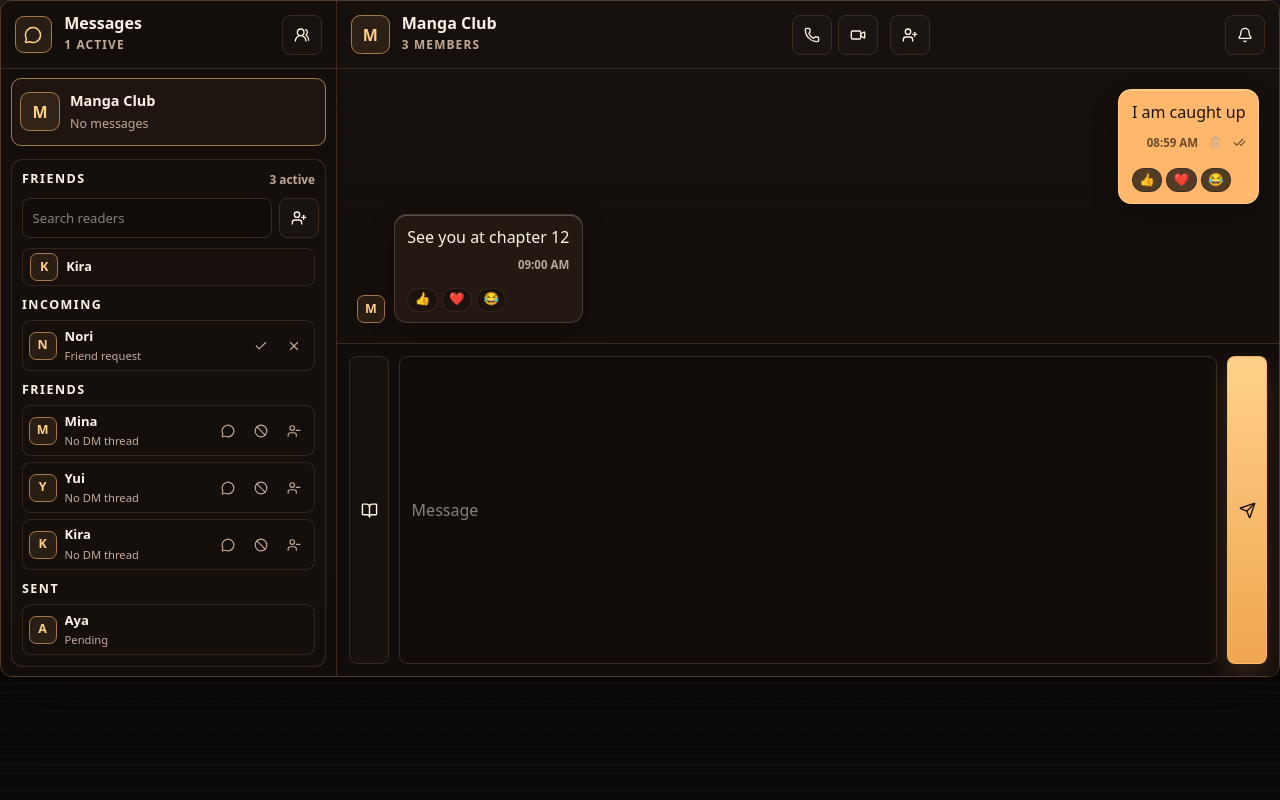
SocialChatPage › invites an accepted friend from a group thread
expect the heading "Manga Club" is shown: met, box [402,15,497,33]
Click the button named "Invite member" at point(910, 35), box [890,15,930,55]
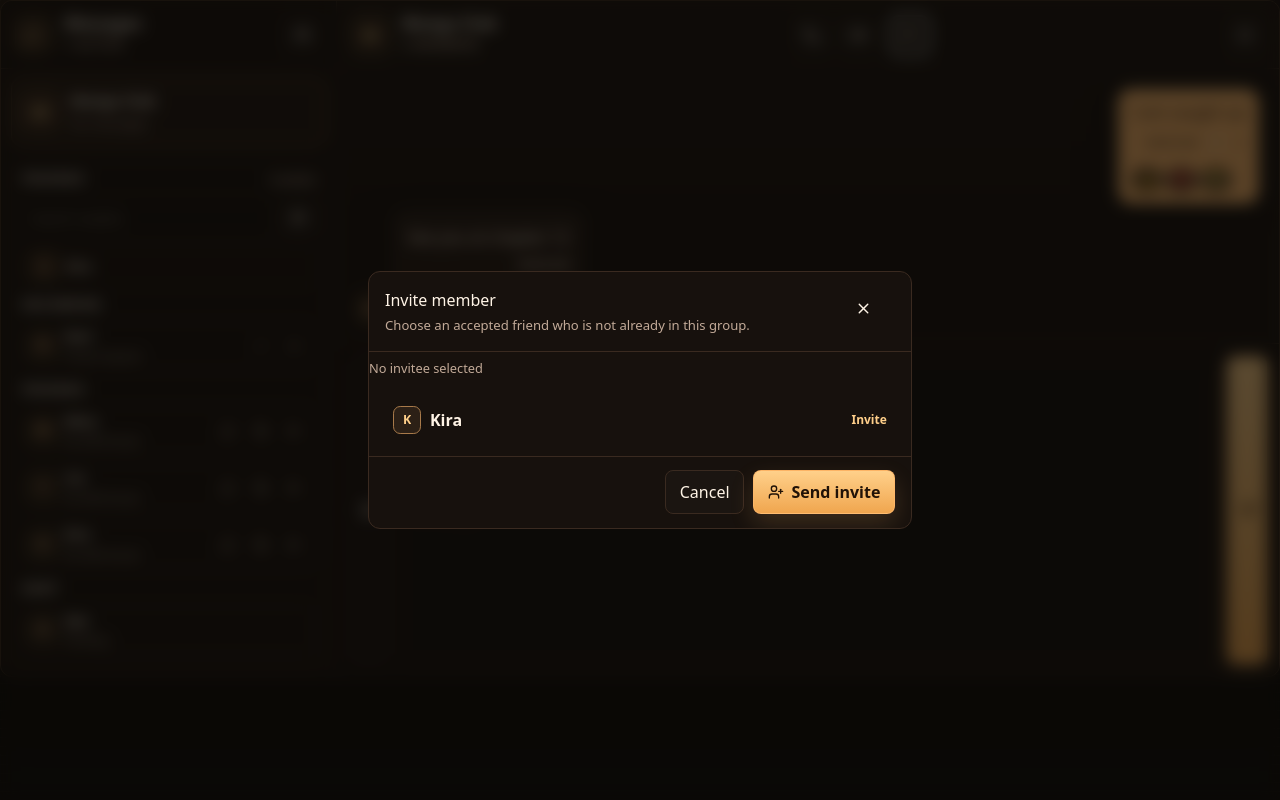
Click the button with aria-label "Invite Kira" at point(446, 420), box [385,398,895,442]
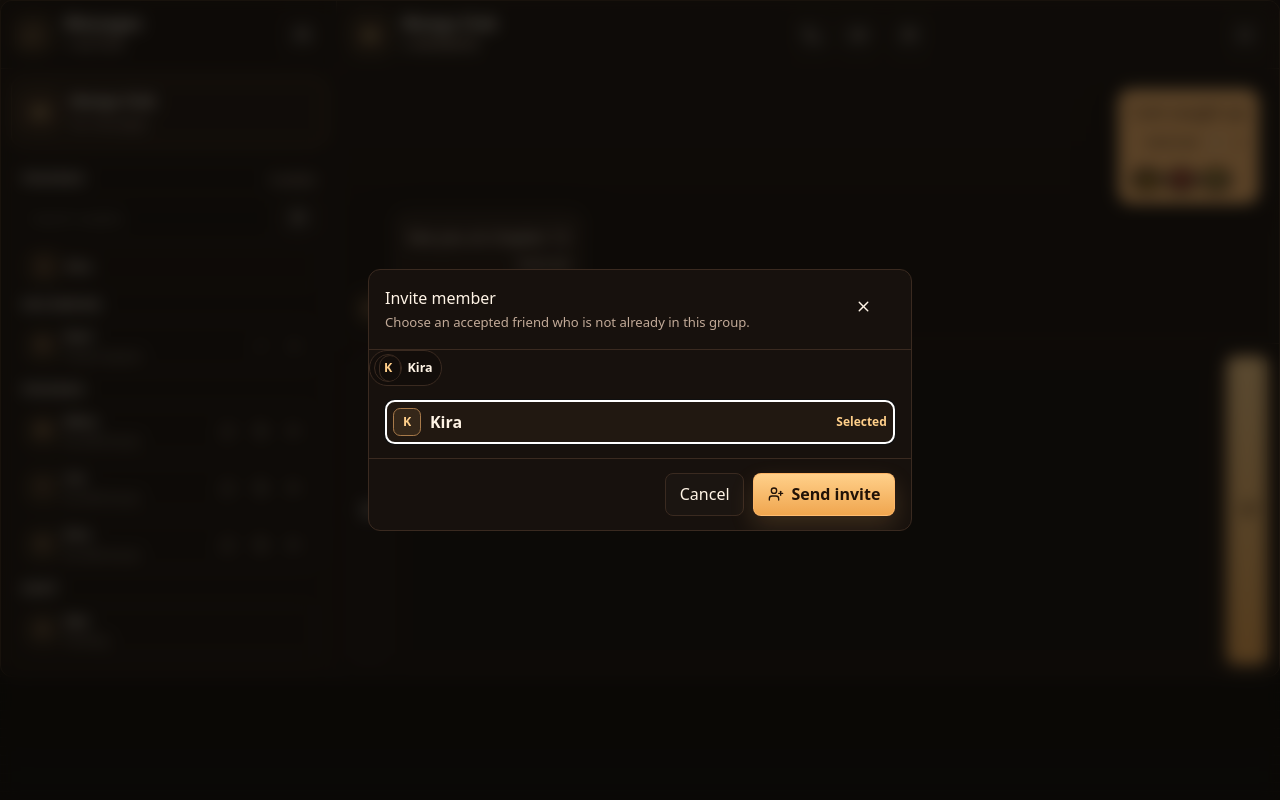
Click the button "Send invite" at point(824, 494), box [753,473,895,516]
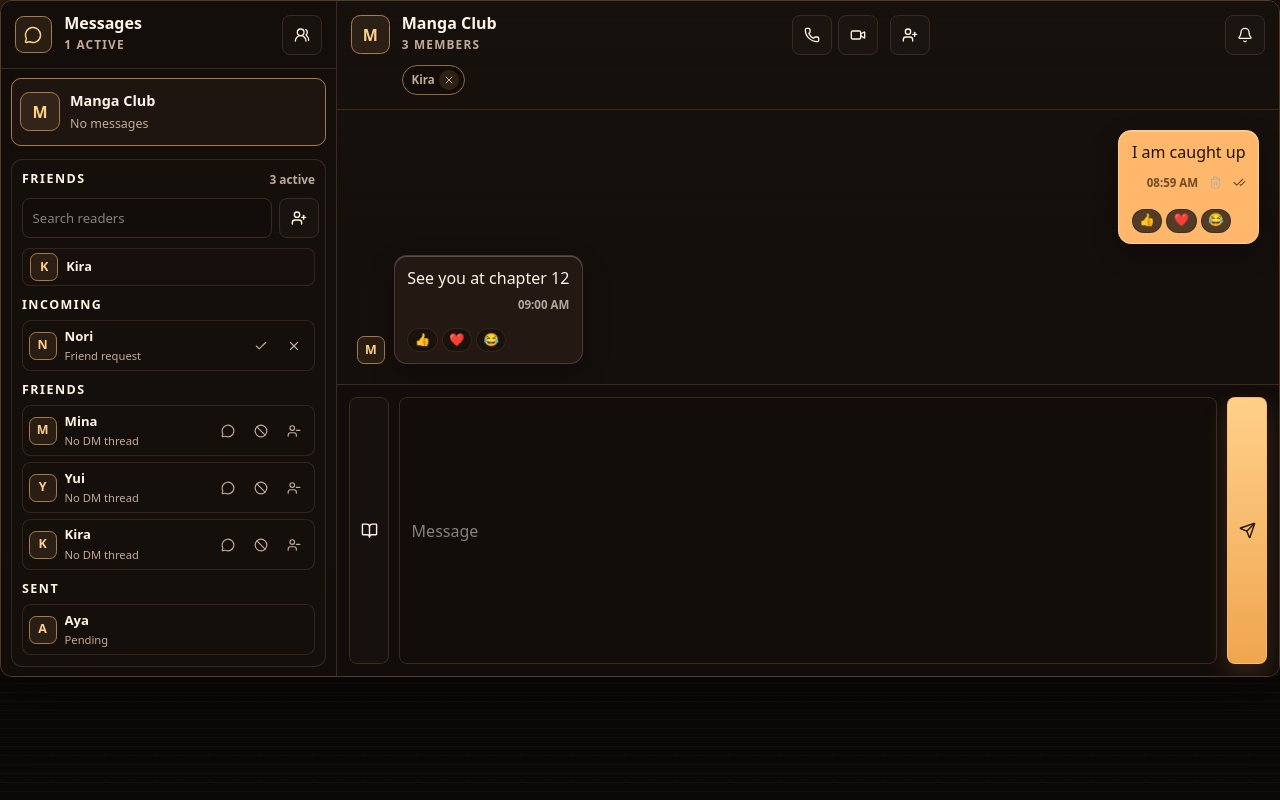
expect the button named "Cancel invite for Kira" is shown: met, box [439,70,459,90]
